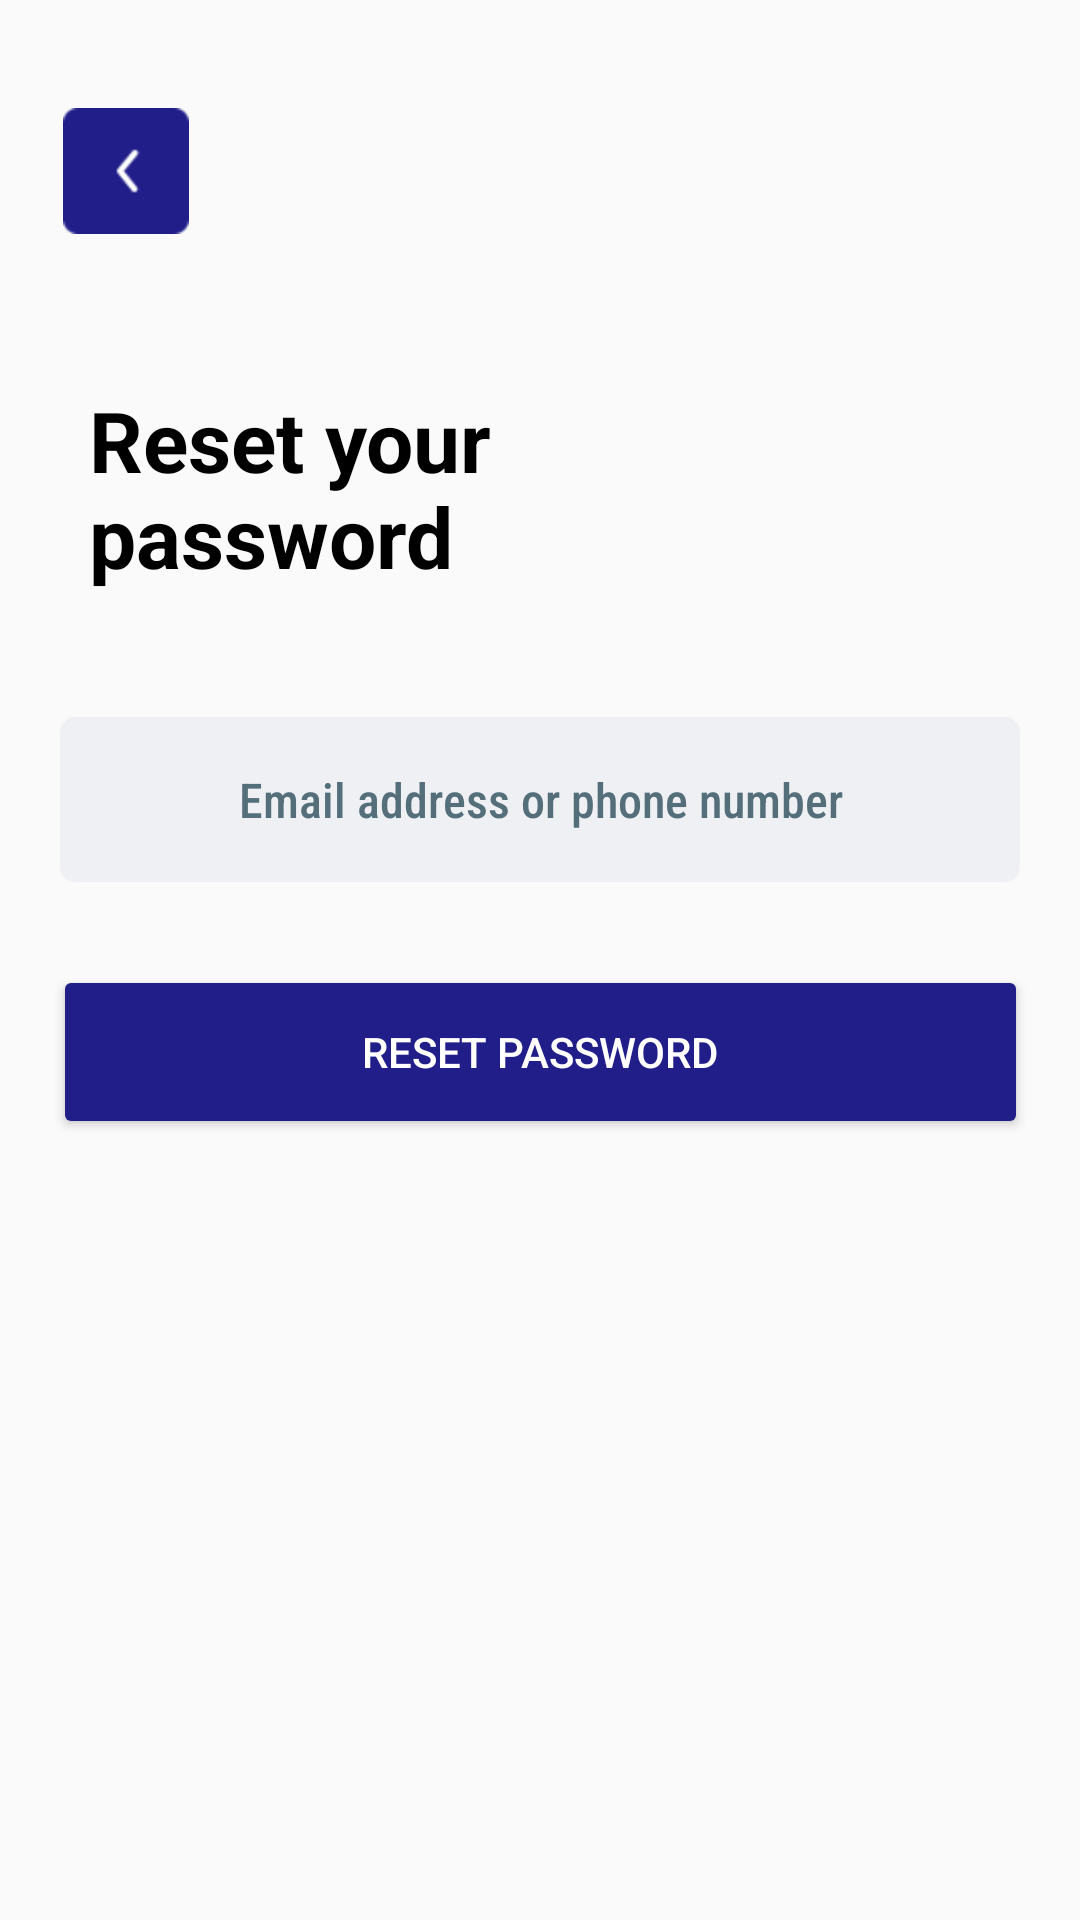

Screen size 1080px x 1920px. Icon name, then its box in pixels as (x1, y1, x2, y2):
backbutton: (63, 108, 189, 234)
